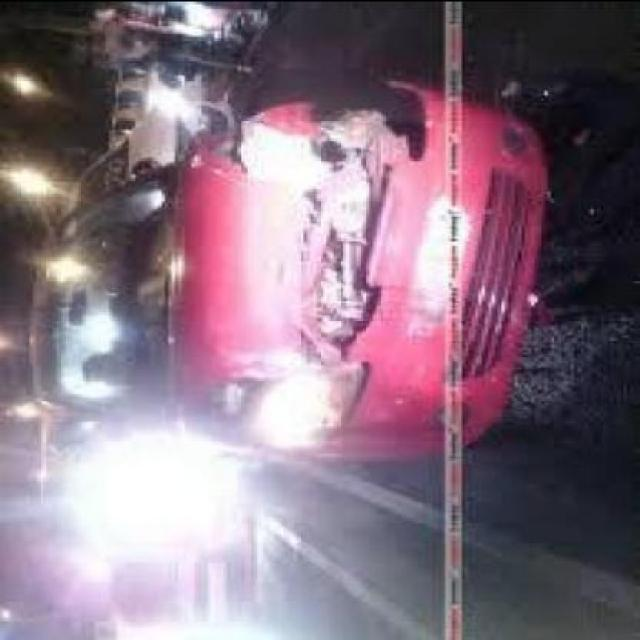damage: (202, 99, 544, 462)
